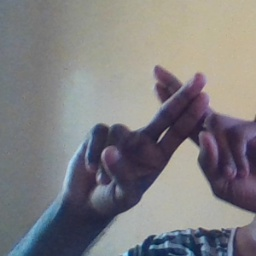F: (100, 57, 254, 187)
